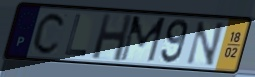9: (159, 18, 189, 65)
C: (31, 11, 68, 56)
H: (90, 12, 135, 64)
L: (63, 13, 88, 58)
M: (117, 15, 168, 65)
N: (183, 20, 227, 67)
